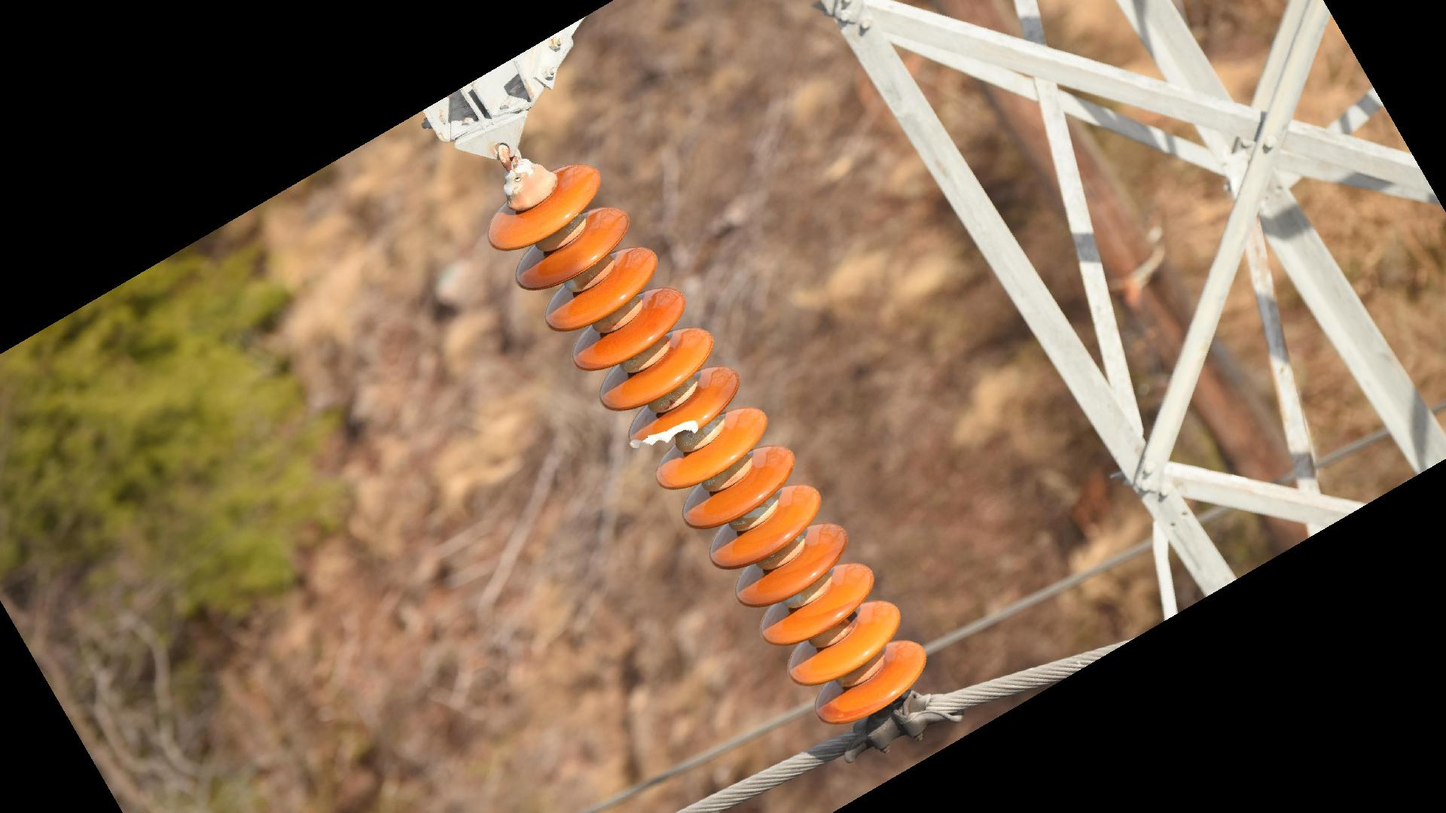insulator: (481, 161, 931, 729)
insulator_breakage: (624, 415, 703, 452)
